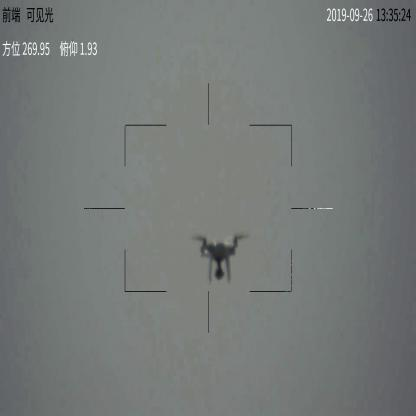uav: (193, 233, 243, 282)
